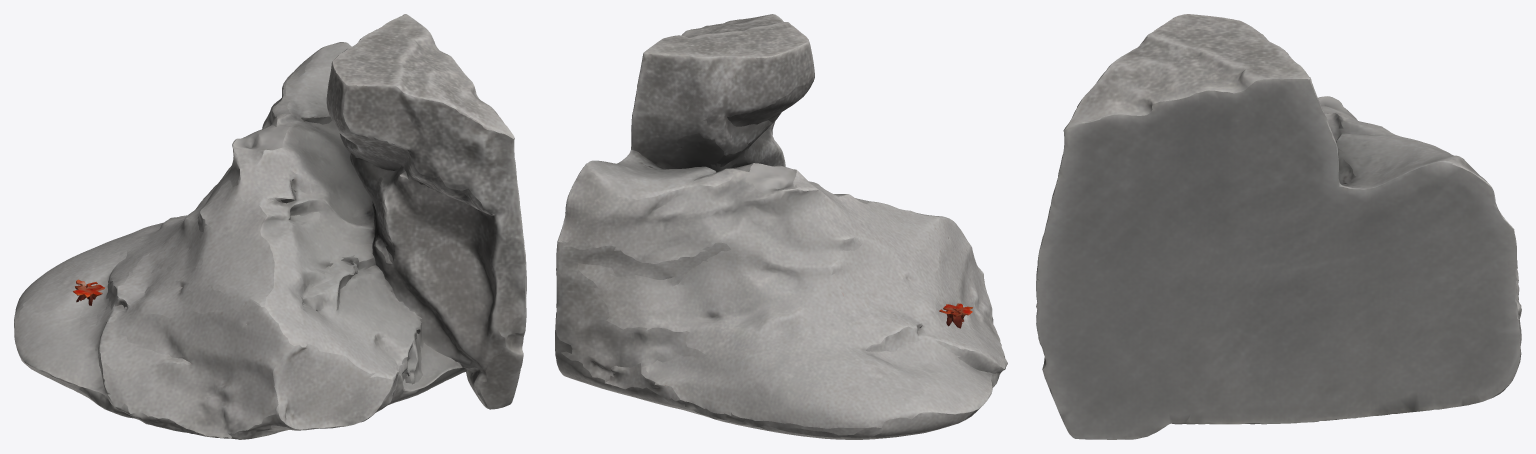
3 renders of one model, left to right at view 1: azimuth 30°, elevation 25°; view 2: azimuth 150°, elevation 25°; view 3: azimuth 270°, elevation 25°, orthographic. The views are drawn at different scales.
Parts seen in each view (by area): view 1: world; view 2: world; view 3: world.
Boxes of the visible parts, left/top/right/bottom form: world: left=14, top=14, right=526, bottom=439; world: left=555, top=14, right=1007, bottom=439; world: left=1036, top=14, right=1521, bottom=439.
Bounding box in the file's own units: 0.35 × 0.2891 × 0.3521.
Materials: 1 (1 with a texture image).
